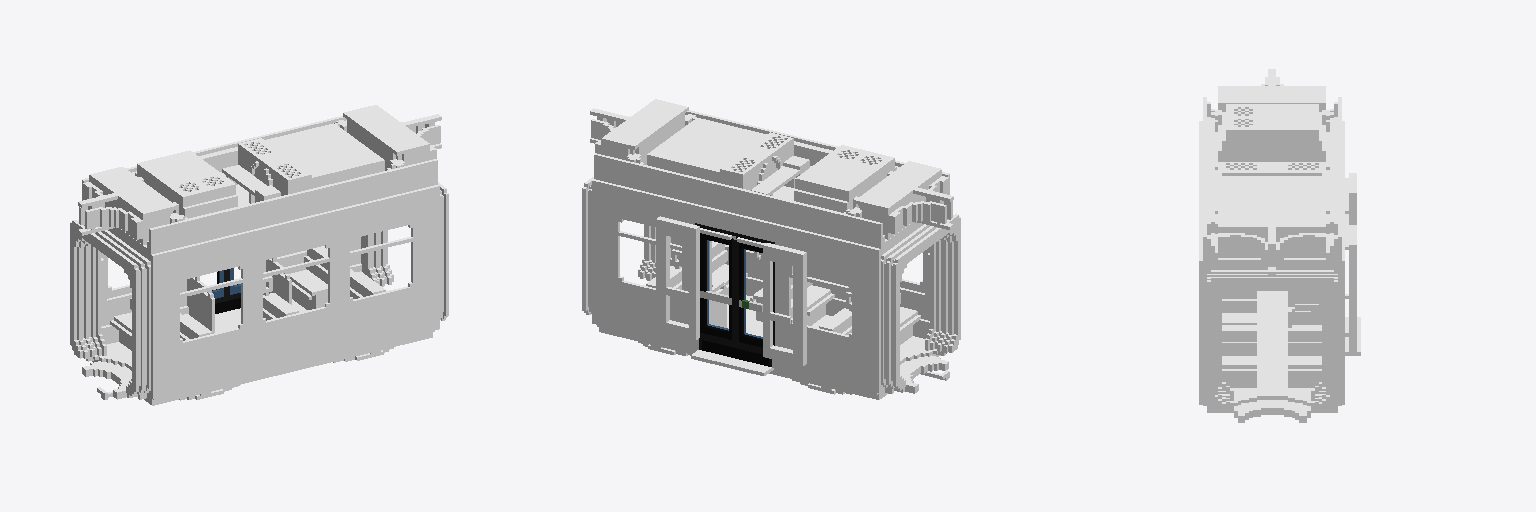
3 views of the same model, side by side, from view 1: azimuth 30°, elevation 25°; view 2: azimuth 150°, elevation 25°; view 3: azimuth 270°, elevation 25° (orthographic).
Visible parts, largest first — view 1: FRAME, closed; view 2: FRAME, open, closed; view 3: FRAME, open.
Part boxes in pixels (x1,y1,x2,y2): FRAME: (70,105,448,405); closed: (212,268,240,313); FRAME: (582,99,960,399); open: (656,216,806,375); closed: (695,223,774,366); FRAME: (1199,69,1344,422); open: (1345,173,1360,355).
Size of the model in its own units: 6.75 by 3.69 by 2.62.
3 materials, 1 textured.